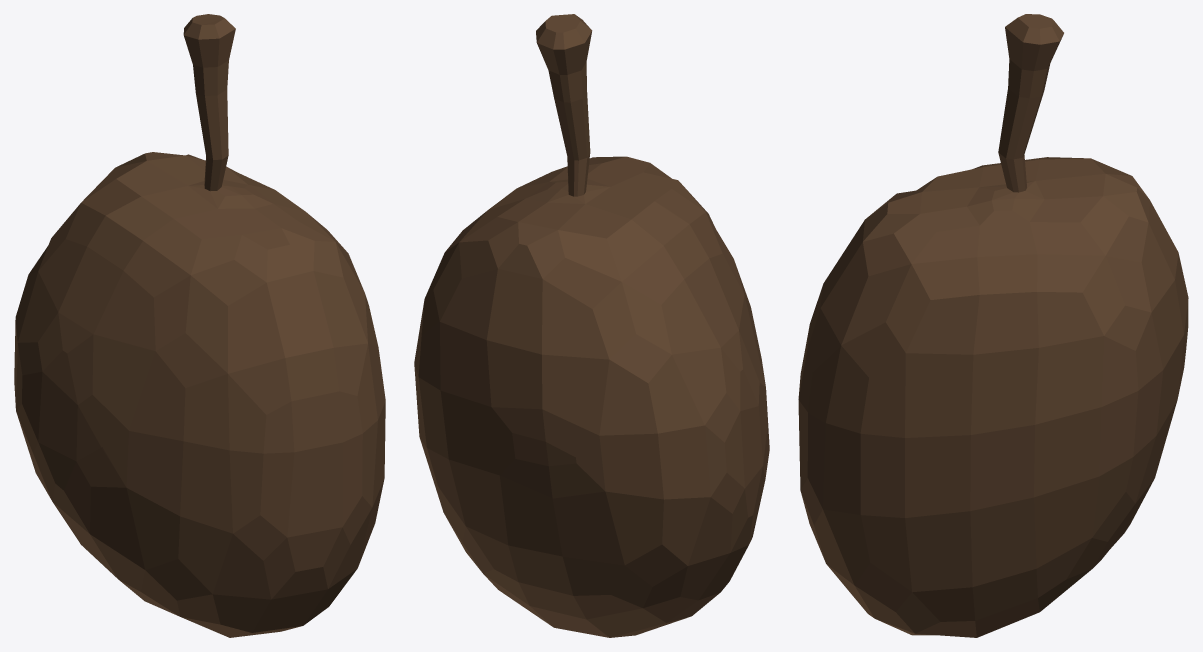
File: M_Juice.fbx
3 views of the same model, side by side, from view 1: azimuth 30°, elevation 25°; view 2: azimuth 150°, elevation 25°; view 3: azimuth 270°, elevation 25° (orthographic). The views are drawn at different scales.
Parts seen in each view (by area): view 1: M_Juice; view 2: M_Juice; view 3: M_Juice.
Boxes of the visible parts, x1=… form: M_Juice: x1=14, y1=14, x2=385, y2=637; M_Juice: x1=414, y1=14, x2=769, y2=637; M_Juice: x1=798, y1=14, x2=1188, y2=637.
Size of the model in its own units: 153 by 295 by 171.
